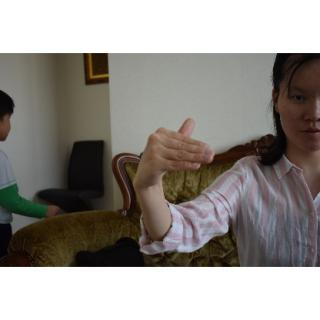KHAA: (128, 113, 215, 190)
